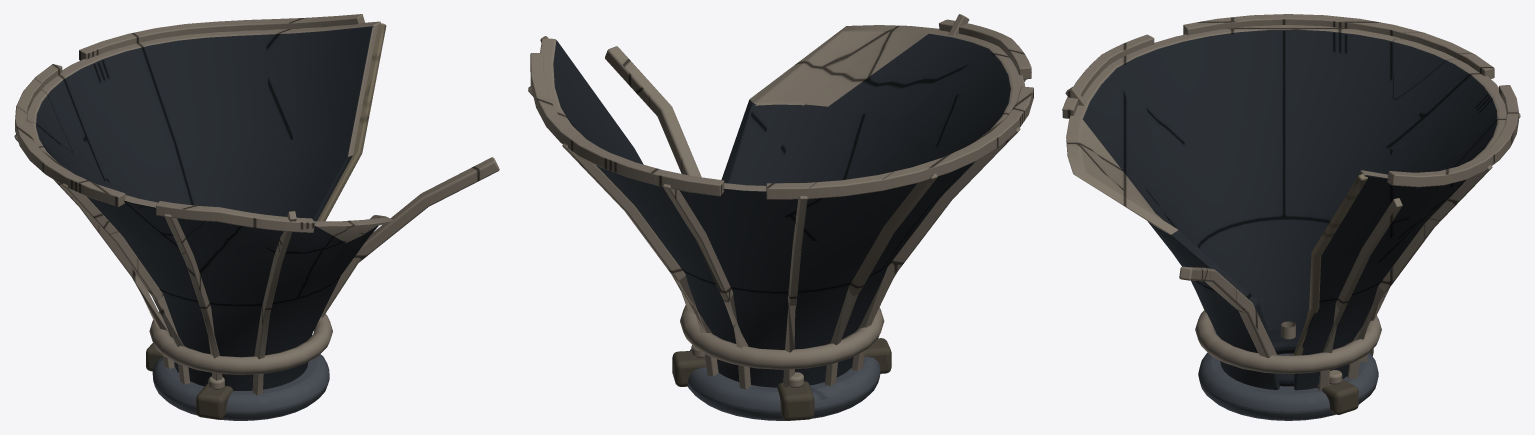
Rendered from cargo-fractured-drive-bell_lod0.glb.
3 views of the same model, side by side, from view 1: azimuth 30°, elevation 25°; view 2: azimuth 150°, elevation 25°; view 3: azimuth 270°, elevation 25° (orthographic). The views are drawn at different scales.
Visible parts, largest first — view 1: LOD0_Armor, LOD0_BrushedMetal, LOD0_Mechanical, LOD0_Ceramic, LOD0_Hull; view 2: LOD0_Armor, LOD0_BrushedMetal, LOD0_Mechanical, LOD0_Hull; view 3: LOD0_Armor, LOD0_BrushedMetal, LOD0_Mechanical, LOD0_Ceramic, LOD0_Hull, LOD0_MechanicalDark.
Part boxes in pixels (box(x1,y1,x2,y2)): LOD0_Armor: box(36, 26, 378, 390); LOD0_BrushedMetal: box(14, 14, 499, 395); LOD0_Mechanical: box(152, 354, 329, 420); LOD0_Ceramic: box(317, 23, 386, 221); LOD0_Hull: box(146, 343, 233, 419); LOD0_Armor: box(540, 33, 1025, 387); LOD0_BrushedMetal: box(528, 14, 1033, 389); LOD0_Mechanical: box(688, 349, 880, 420); LOD0_Hull: box(672, 338, 891, 420); LOD0_Armor: box(1082, 29, 1497, 390); LOD0_BrushedMetal: box(1062, 14, 1520, 390); LOD0_Mechanical: box(1198, 352, 1378, 420); LOD0_Ceramic: box(1294, 173, 1367, 355); LOD0_Hull: box(1317, 348, 1373, 414); LOD0_MechanicalDark: box(1268, 330, 1302, 386).
Size of the model in its own units: 2.21 by 1.54 by 2.13.
6 materials, 6 textured.
